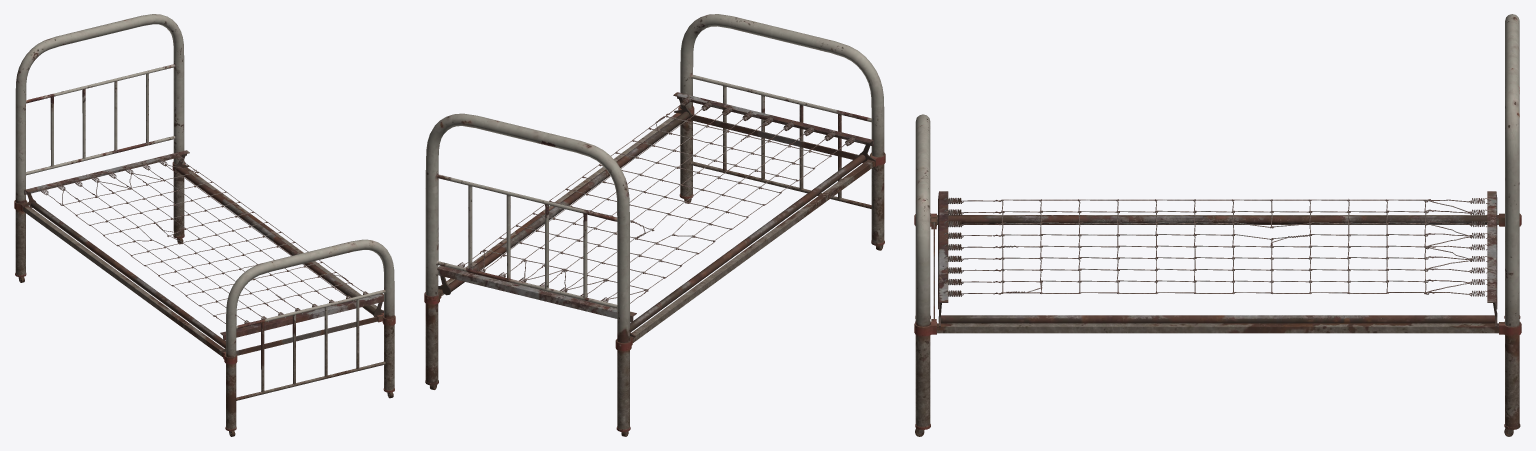
Rendered from old_bed_frame.glb.
The picture shows the model from 3 angles, left to right: view 1: azimuth 30°, elevation 25°; view 2: azimuth 150°, elevation 25°; view 3: azimuth 270°, elevation 25°; orthographic projection. The views are drawn at different scales.
Visible parts, largest first — view 1: old_bed_frame; view 2: old_bed_frame; view 3: old_bed_frame.
Part boxes in pixels (<box>): old_bed_frame: <box>14,14,395,436</box>; old_bed_frame: <box>424,14,885,436</box>; old_bed_frame: <box>914,14,1521,436</box>.
Size of the model in its own units: 0.9047 by 1.2 by 2.
Materials: 1 (1 with a texture image).
